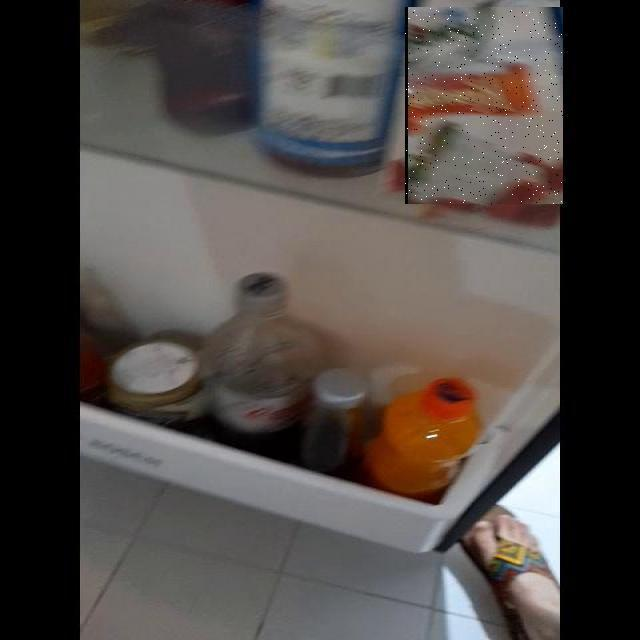Cheese: (405, 7, 563, 204)
